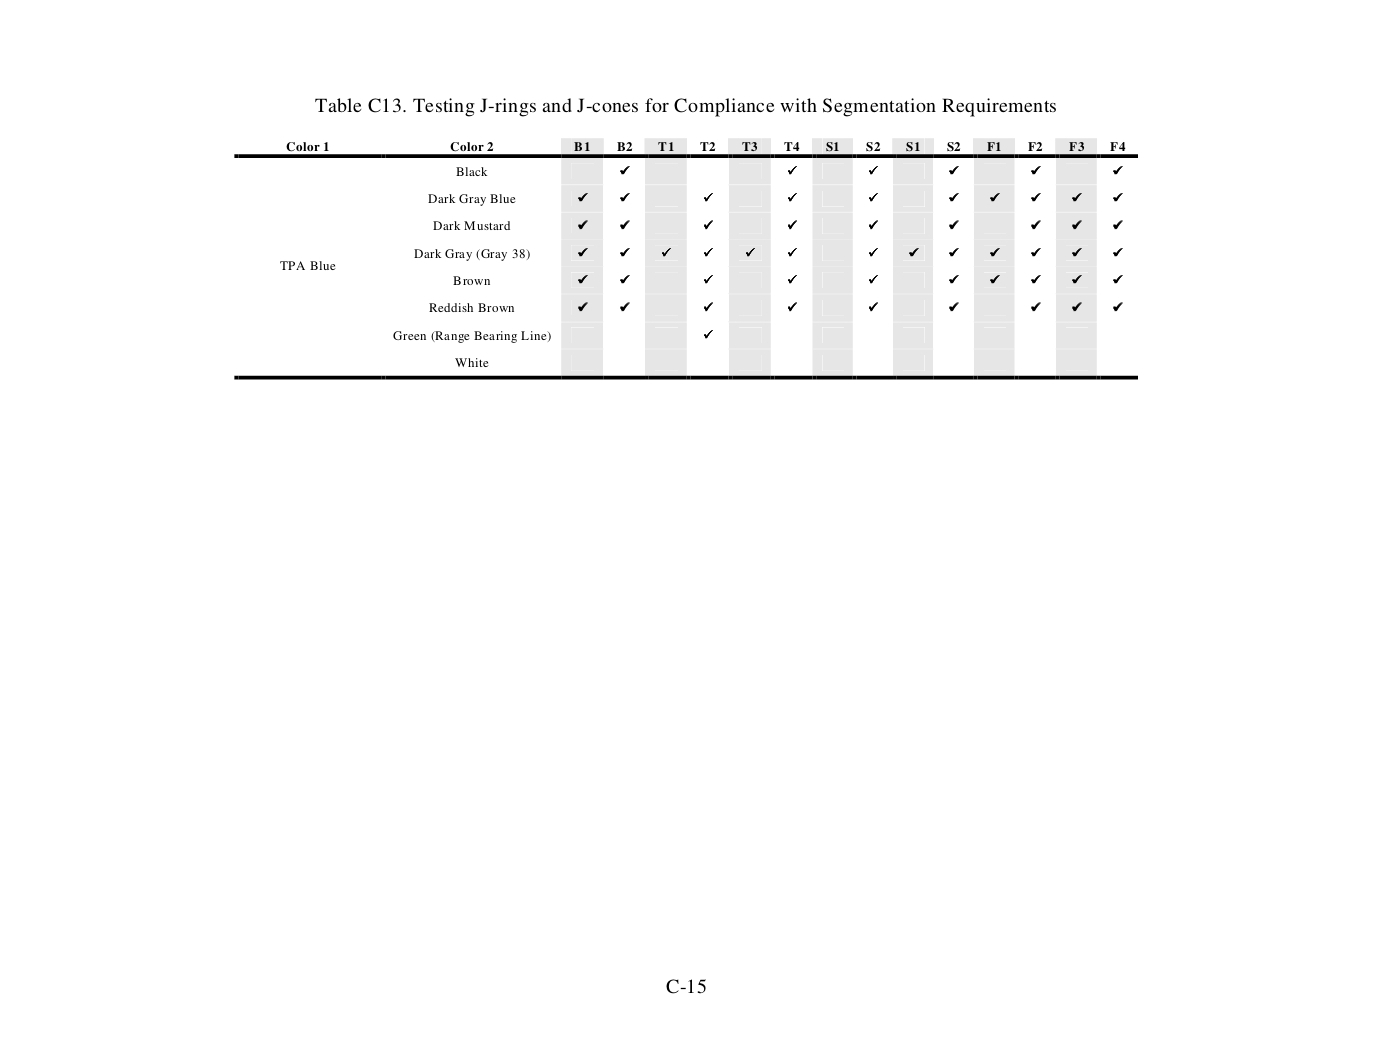Table: (234, 137, 1137, 380)
